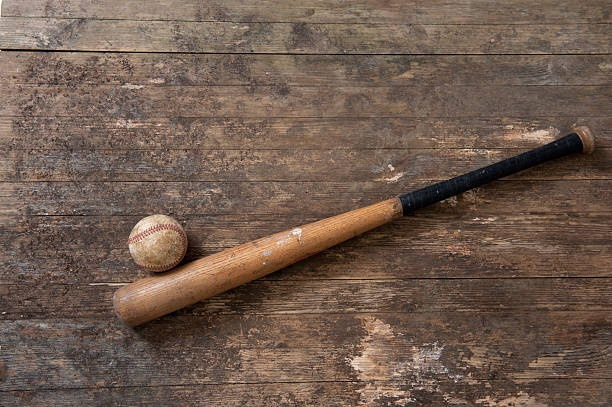bita: (113, 123, 591, 326)
